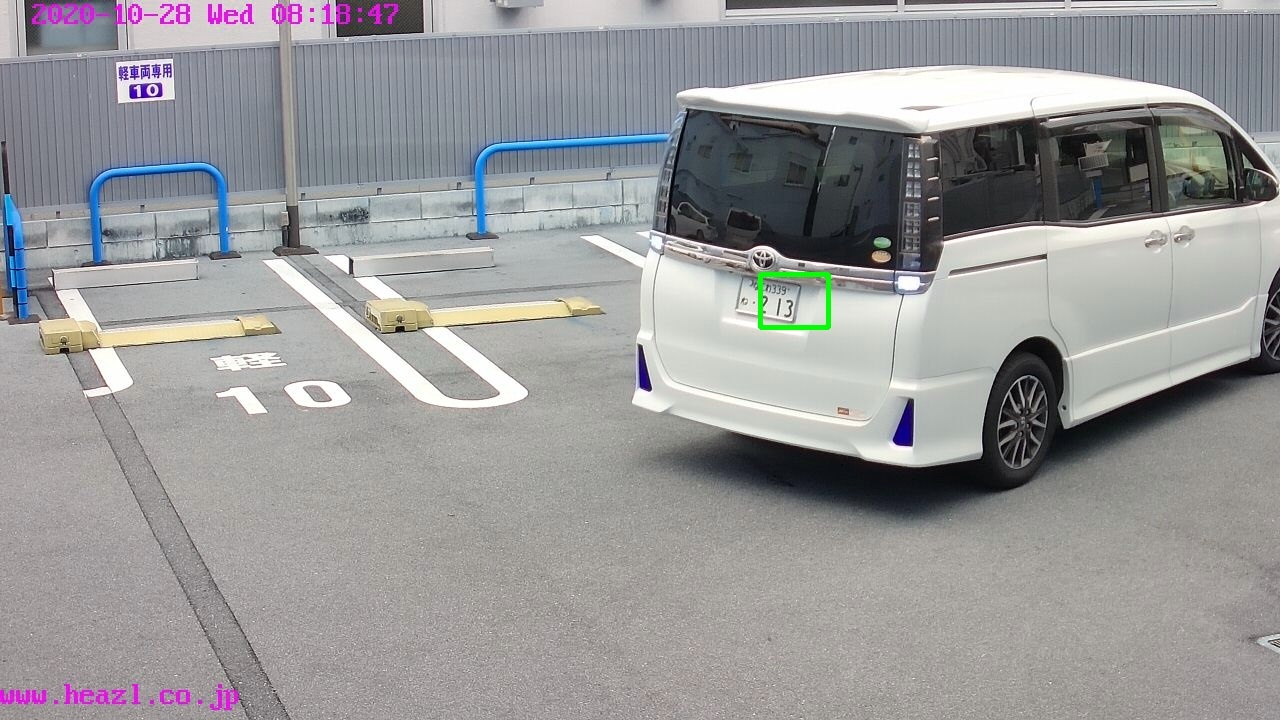number_plate: (736, 275, 799, 321)
